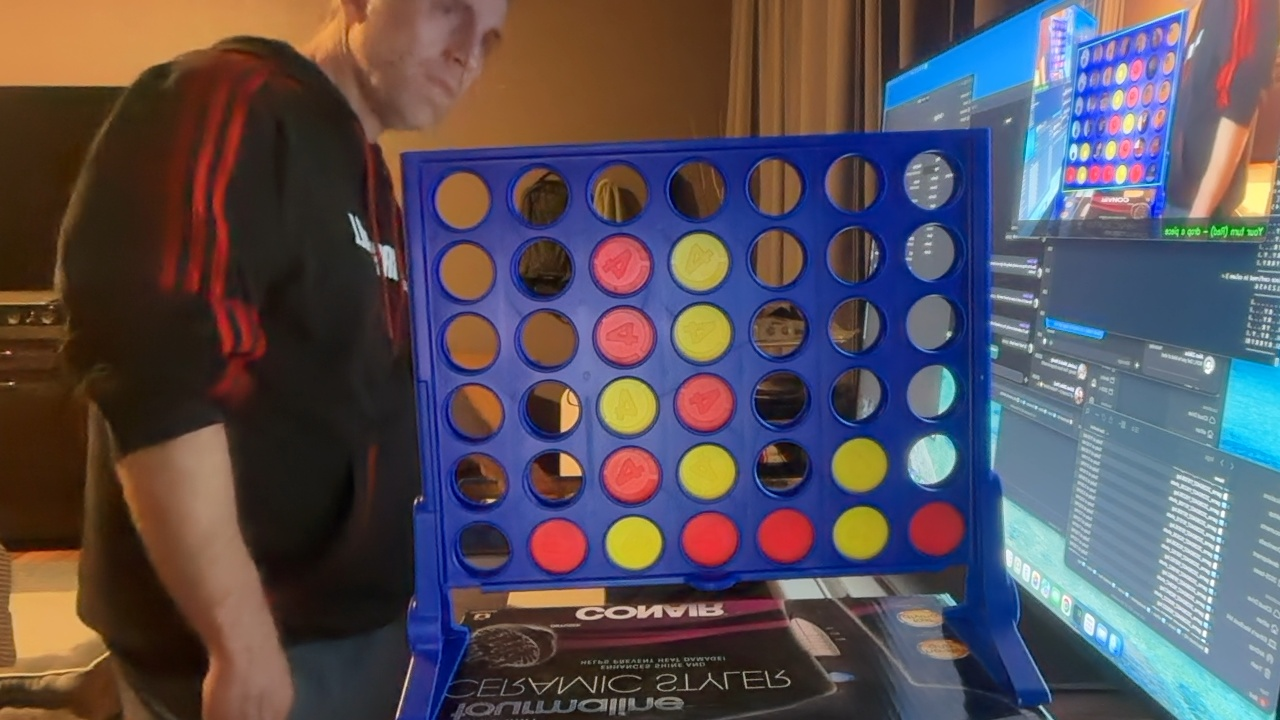red piece: (591, 235, 652, 296), (595, 307, 655, 366), (675, 373, 735, 432), (601, 447, 660, 504), (757, 508, 814, 564), (681, 512, 739, 567), (529, 519, 587, 574), (909, 502, 965, 556)
yellow piece: (670, 232, 729, 291), (598, 377, 657, 436), (673, 303, 732, 362), (677, 444, 737, 500), (605, 516, 663, 571), (831, 438, 888, 492), (832, 507, 889, 560)
